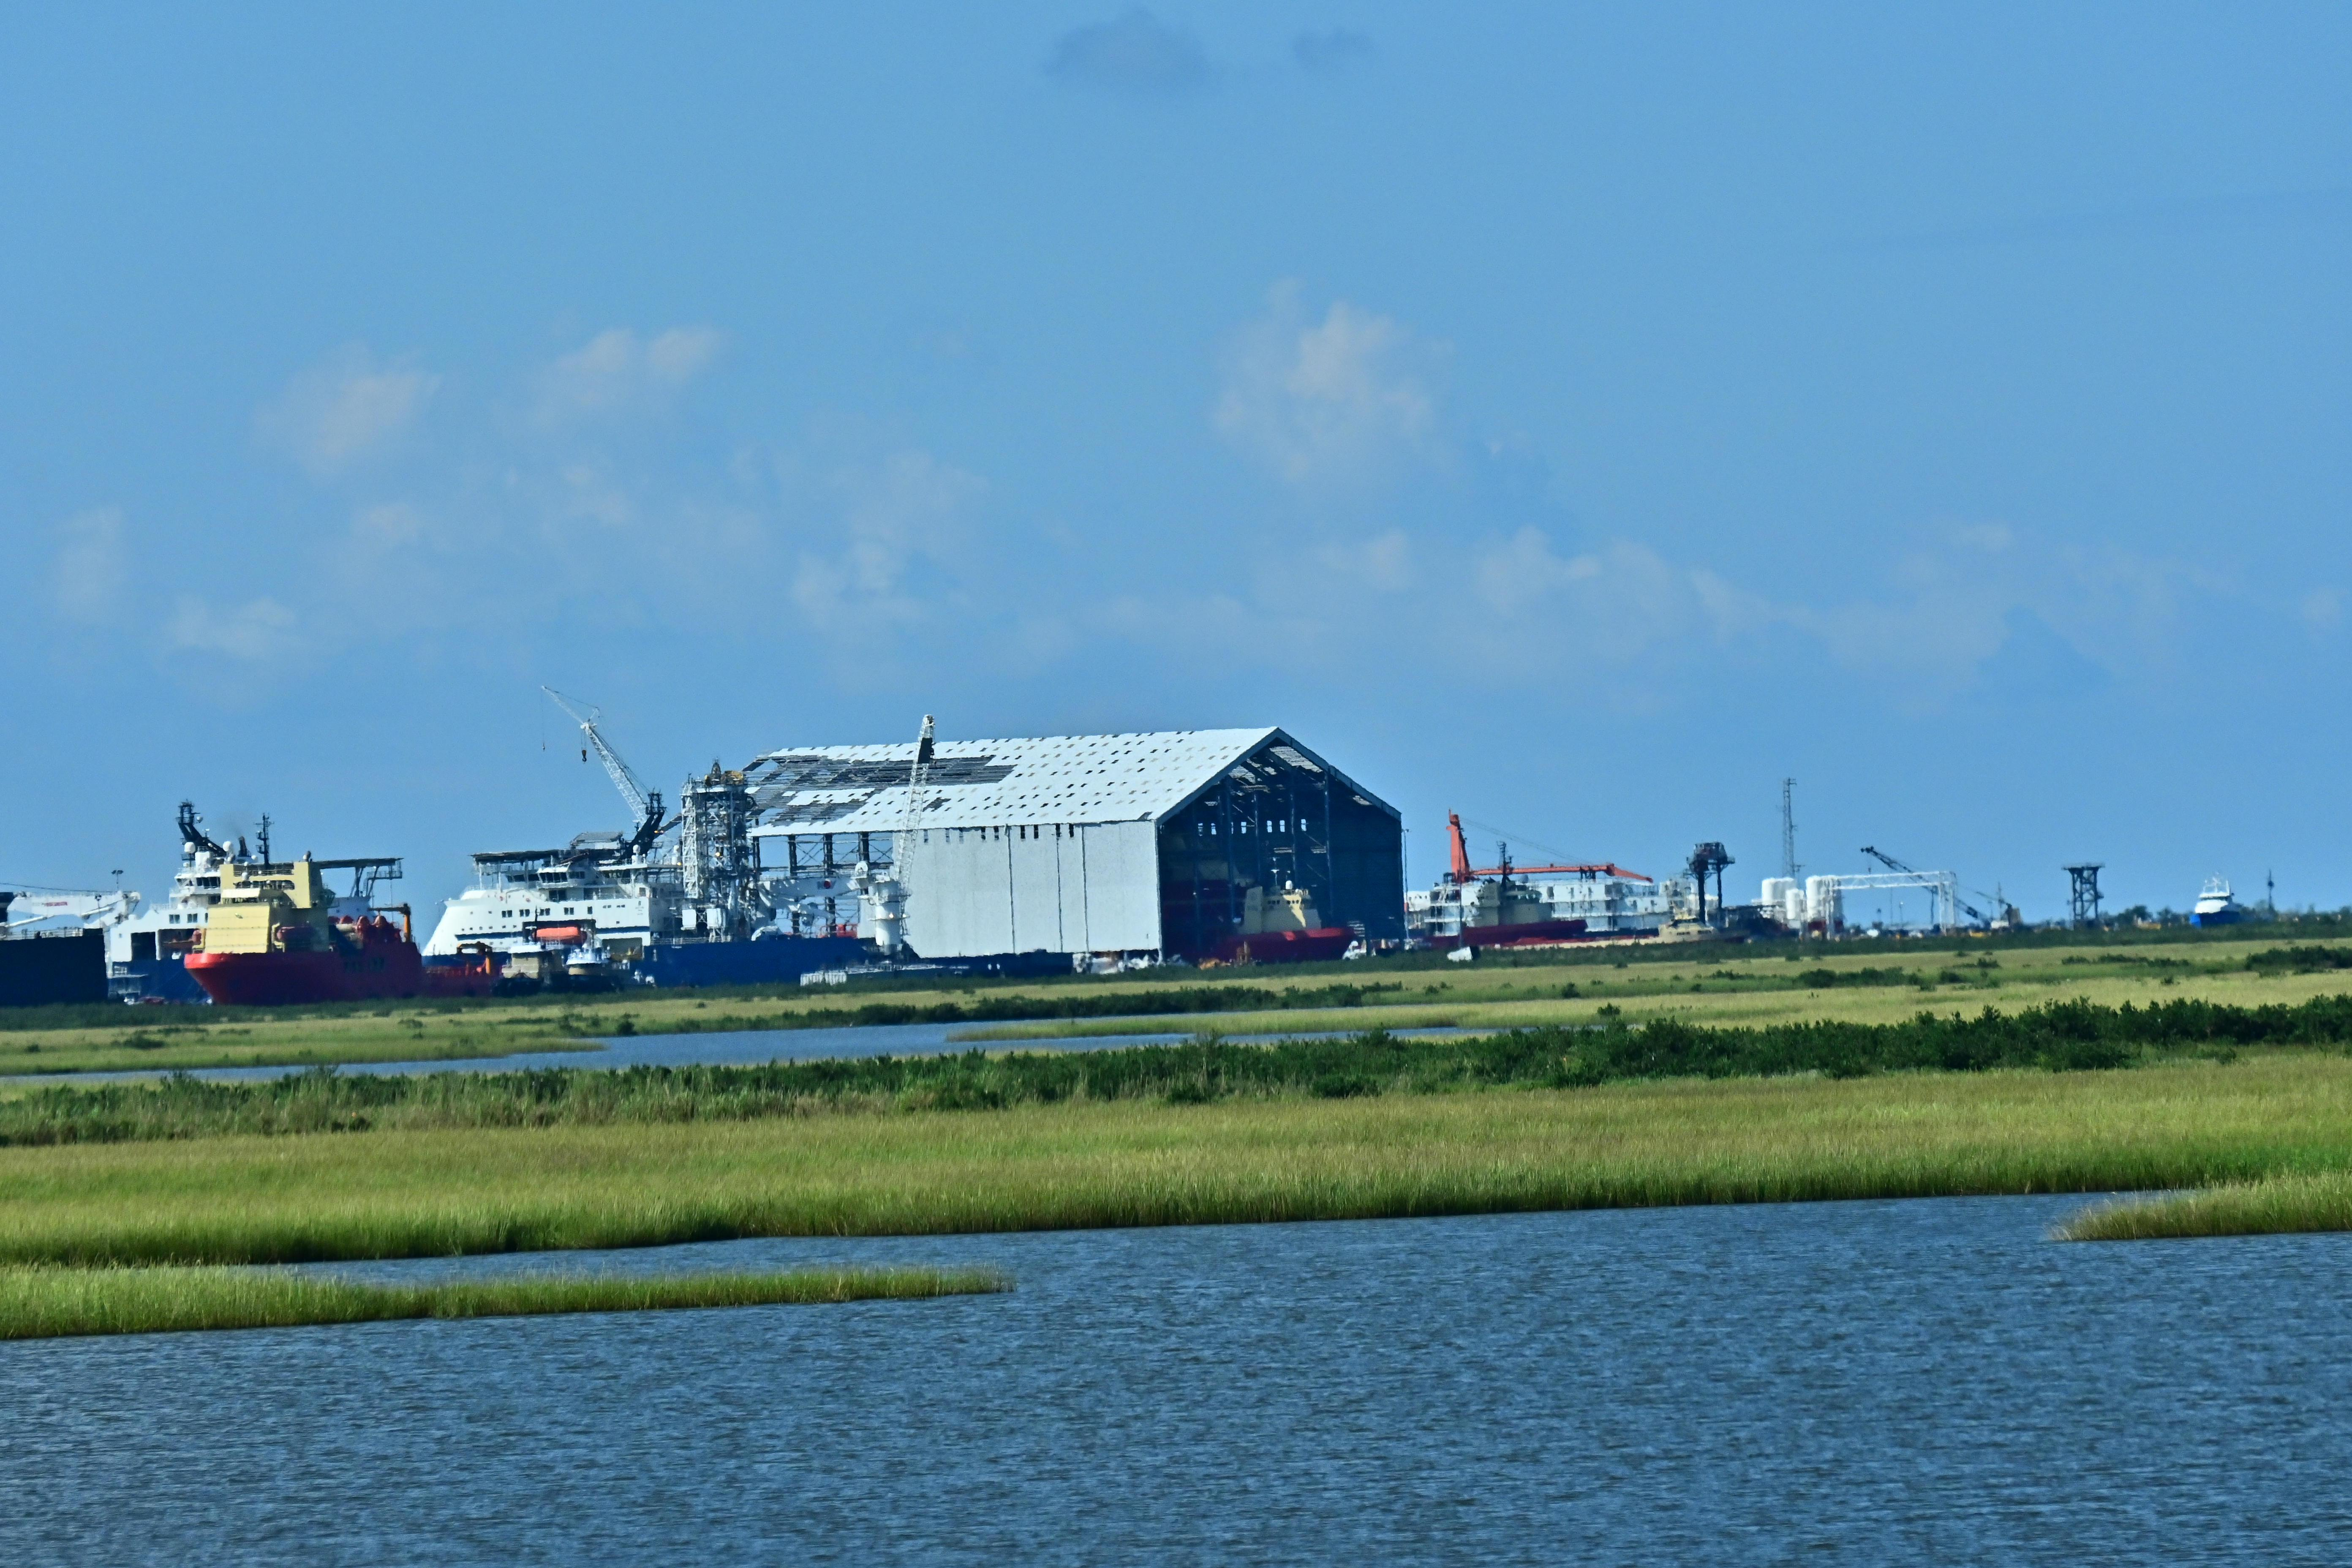major: (514, 663, 1505, 976)
